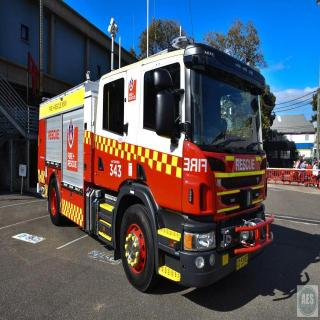Fire_truck: (36, 26, 274, 292)
